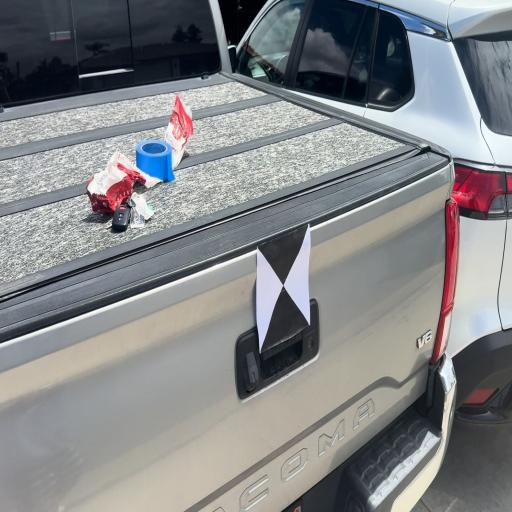target: (258, 225, 310, 347)
